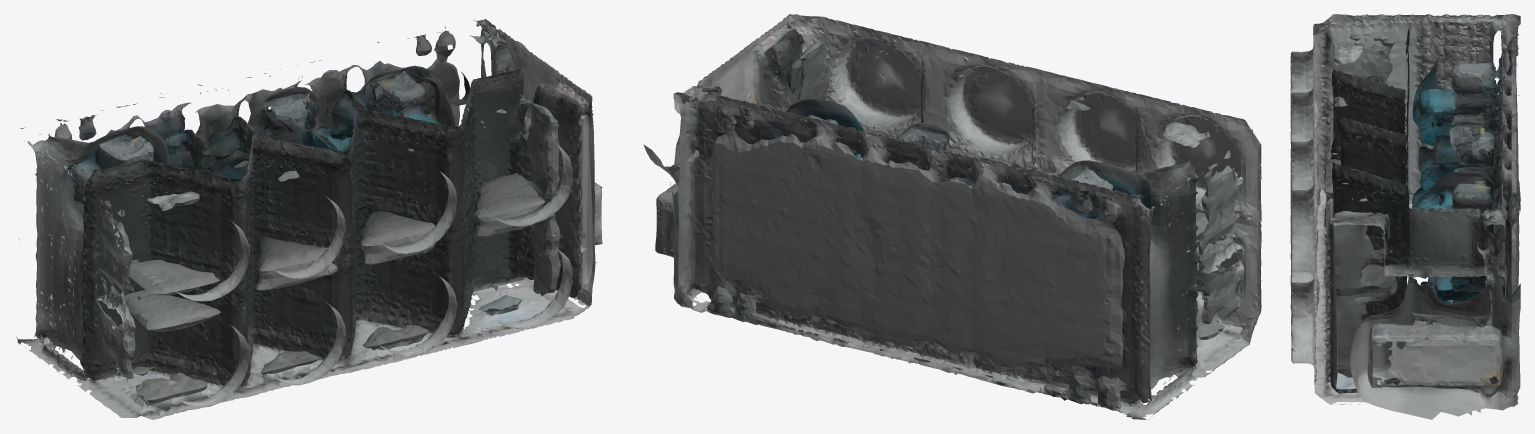
The model's file is test_simplified.glb.
3 views of the same model, side by side, from view 1: azimuth 30°, elevation 25°; view 2: azimuth 150°, elevation 25°; view 3: azimuth 270°, elevation 25° (orthographic). The views are drawn at different scales.
Parts seen in each view (by area): view 1: world; view 2: world; view 3: world.
Boxes of the visible parts, left/top/right/bottom form: world: left=16, top=19, right=602, bottom=419; world: left=643, top=14, right=1261, bottom=419; world: left=1290, top=14, right=1520, bottom=419.
Size of the model in its own units: 0.9935 by 0.4082 by 0.4444.
